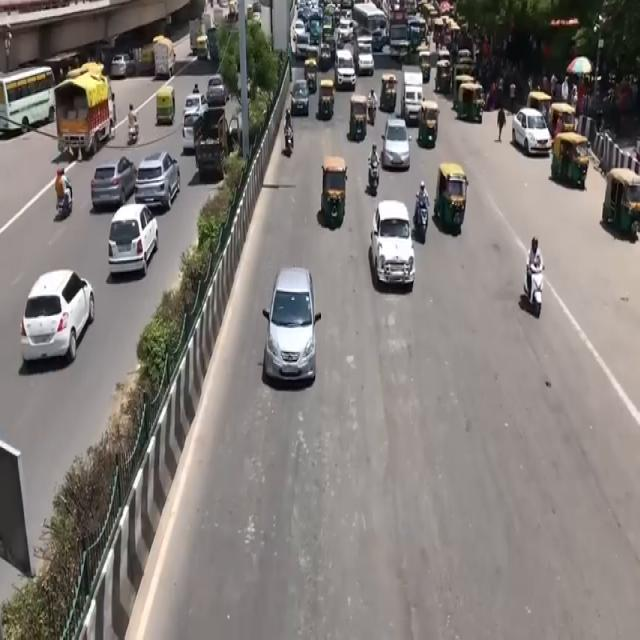BUS: (0, 64, 55, 132)
MOTORCYCLE: (525, 262, 543, 320), (416, 202, 428, 244), (368, 160, 380, 196)
TRUCK: (54, 68, 114, 165)
